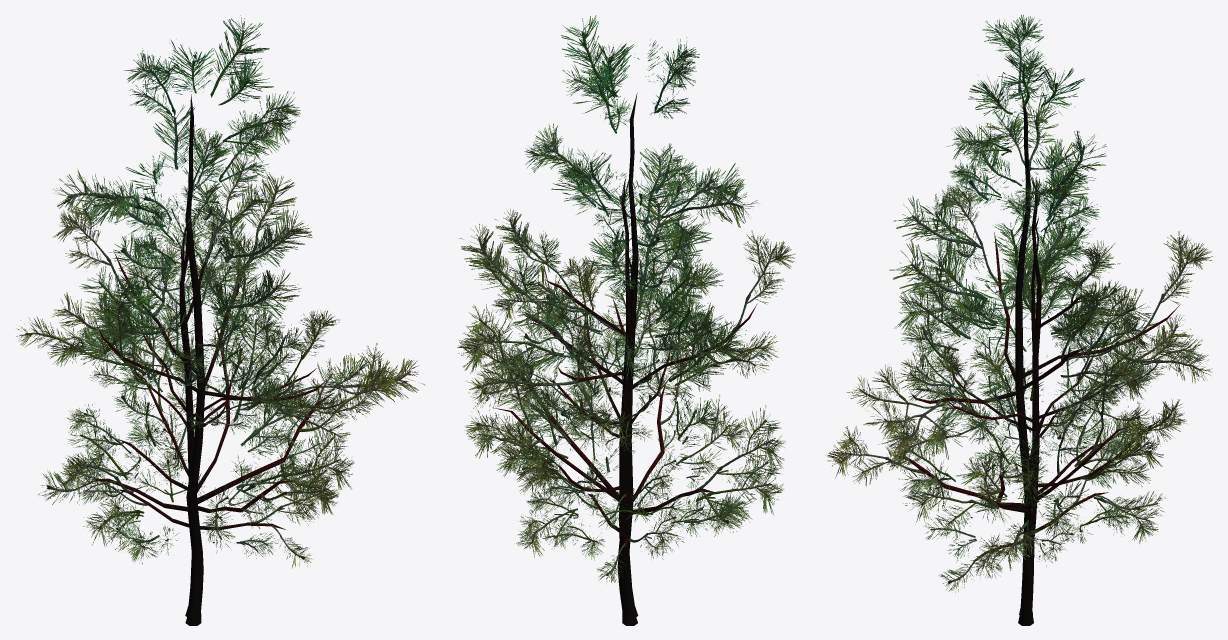
File: pine_sapling_small.gltf
3 renders of one model, left to right at view 1: azimuth 30°, elevation 25°; view 2: azimuth 150°, elevation 25°; view 3: azimuth 270°, elevation 25°, orthographic.
Visible parts, largest first — view 1: pine_sapling_small_a, pine_sapling_small_b, pine_sapling_small_c; view 2: pine_sapling_small_a, pine_sapling_small_b, pine_sapling_small_c; view 3: pine_sapling_small_a, pine_sapling_small_b, pine_sapling_small_c.
Boxes of the visible parts, x1,y1,x2,y2 form: pine_sapling_small_a: (16, 15, 425, 625); pine_sapling_small_b: (52, 124, 350, 618); pine_sapling_small_c: (60, 186, 338, 568); pine_sapling_small_a: (457, 15, 794, 625); pine_sapling_small_b: (491, 143, 748, 618); pine_sapling_small_c: (493, 192, 748, 582); pine_sapling_small_a: (846, 14, 1212, 625); pine_sapling_small_b: (825, 159, 1191, 614); pine_sapling_small_c: (895, 188, 1186, 592).
Size of the model in its own units: 0.7877 by 1.3 by 0.7703.
2 materials, 2 textured.
